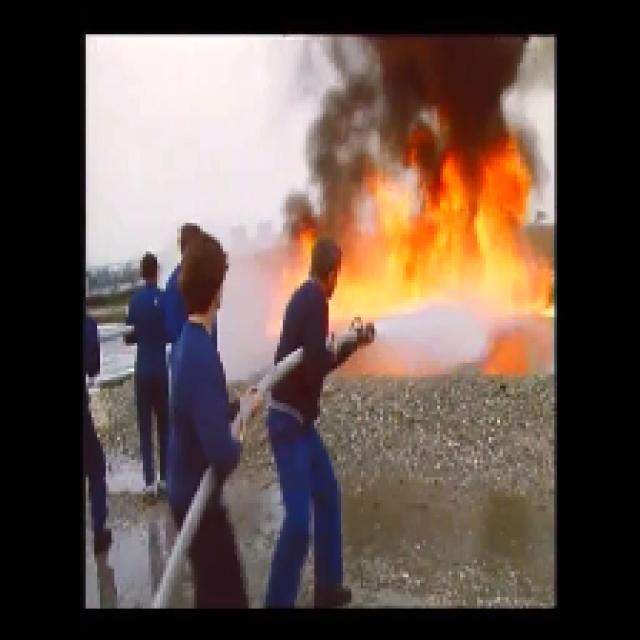fire: (417, 166, 524, 264)
smoke: (374, 40, 506, 135)
